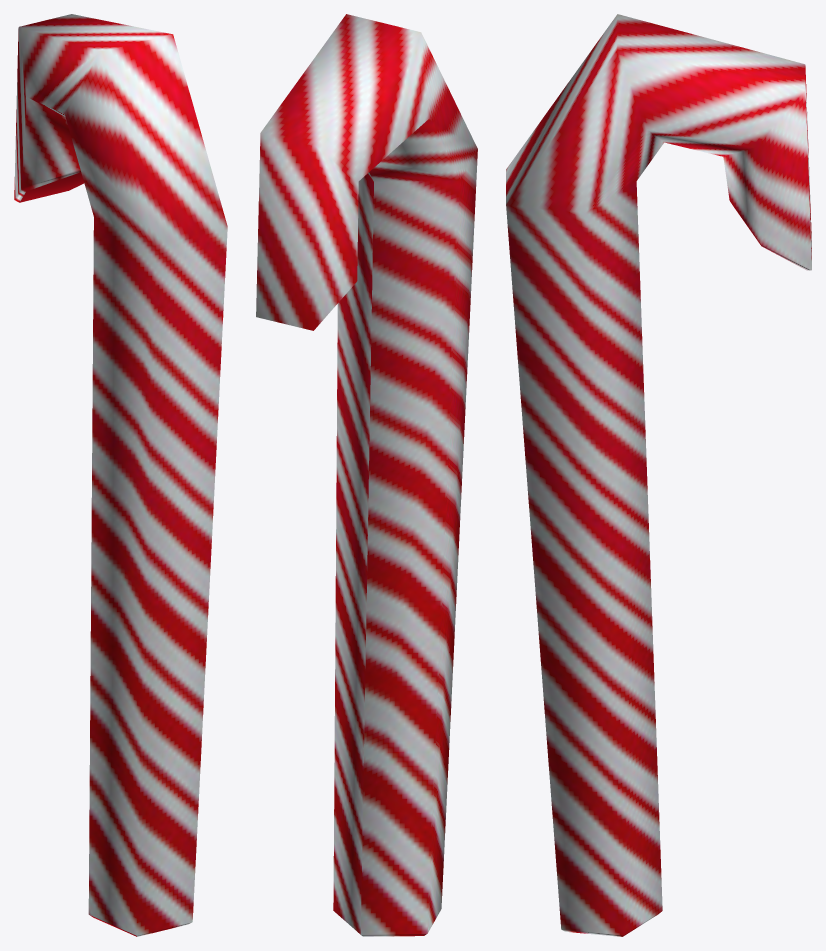
File: CandyCane.fbx
3 renders of one model, left to right at view 1: azimuth 30°, elevation 25°; view 2: azimuth 150°, elevation 25°; view 3: azimuth 270°, elevation 25°, orthographic. The views are drawn at different scales.
Visible parts, largest first — view 1: pTorus1; view 2: pTorus1; view 3: pTorus1.
Part boxes in pixels (x1,y1,x2,y2): pTorus1: [14, 14, 227, 936]; pTorus1: [256, 14, 477, 936]; pTorus1: [506, 14, 811, 936].
Size of the model in its own units: 9.51 by 67.74 by 21.16.
1 material, 1 textured.
